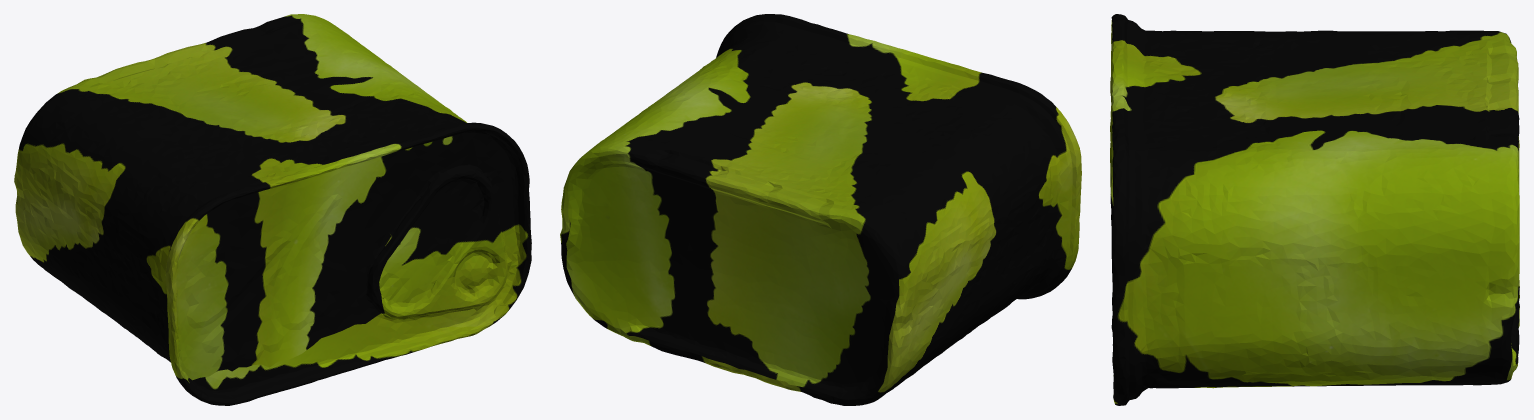
The picture shows the model from 3 angles, left to right: view 1: azimuth 30°, elevation 25°; view 2: azimuth 150°, elevation 25°; view 3: azimuth 270°, elevation 25°; orthographic projection. The views are drawn at different scales.
Parts seen in each view (by area): view 1: node; view 2: node; view 3: node.
Part boxes in pixels (x1,y1,x2,y2): node: (14,14,531,405); node: (560,14,1081,405); node: (1110,14,1519,405).
Size of the model in its own units: 0.1021 by 0.0601 by 0.0835.
